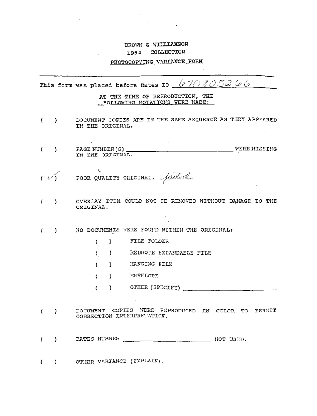checkbox: (40, 145, 57, 154), (40, 226, 57, 235), (40, 335, 57, 344), (40, 357, 56, 366), (95, 249, 111, 258), (95, 283, 111, 292), (40, 116, 57, 124), (40, 198, 57, 206), (40, 307, 57, 315), (95, 238, 112, 246), (41, 175, 57, 183), (95, 261, 111, 269), (95, 272, 111, 280)
textline: (171, 78, 278, 89), (181, 283, 277, 292), (126, 145, 233, 153), (121, 335, 213, 343)
